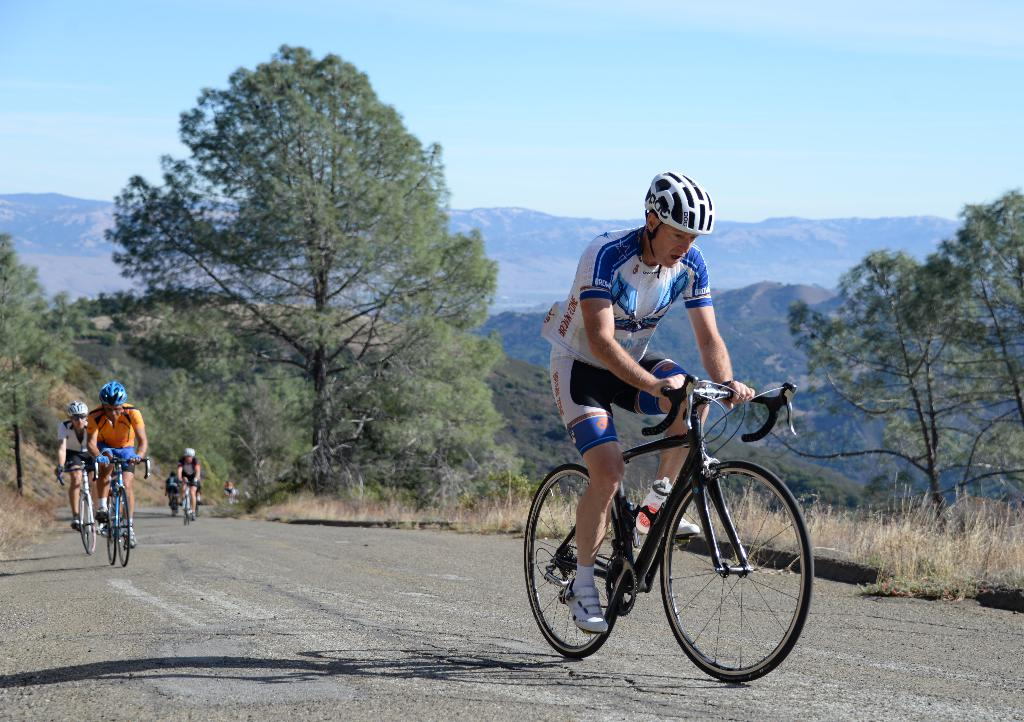Bike_toward: (522, 382, 819, 679), (93, 452, 153, 565)
